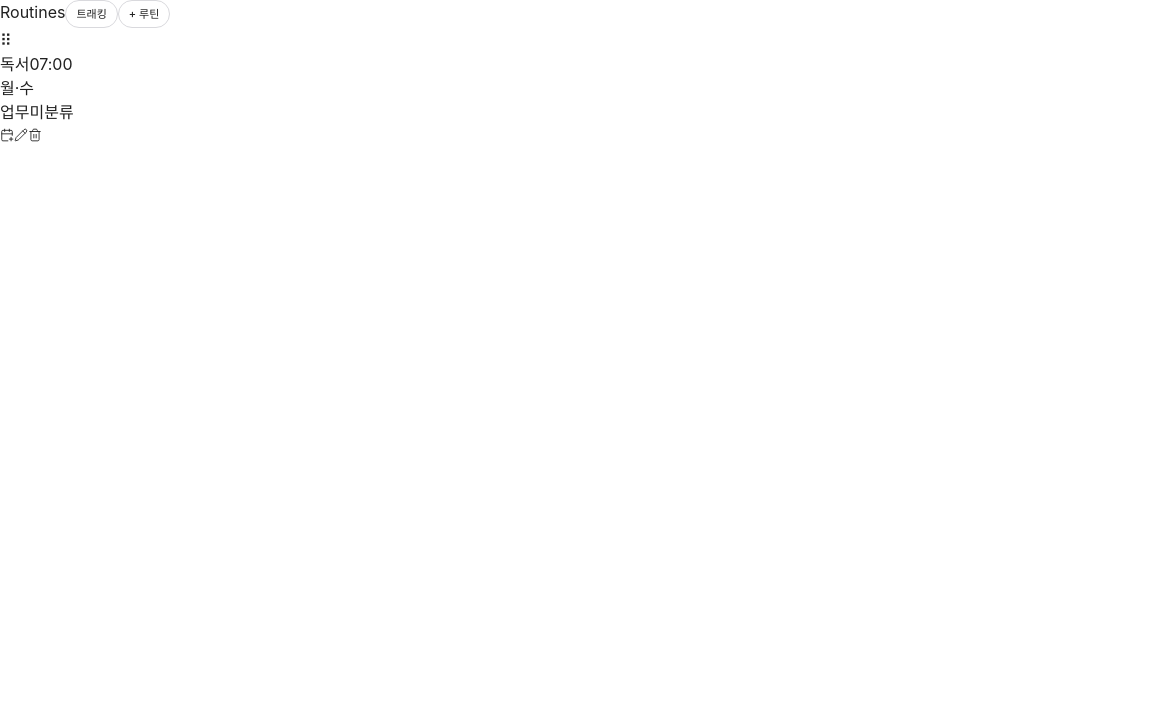
Test: RoutinesPanel behavior baseline › edit populates non-trivial fields (time + weekly weekdays)
Click the button named "루틴 수정" at (21, 135), box [14,128,28,142]
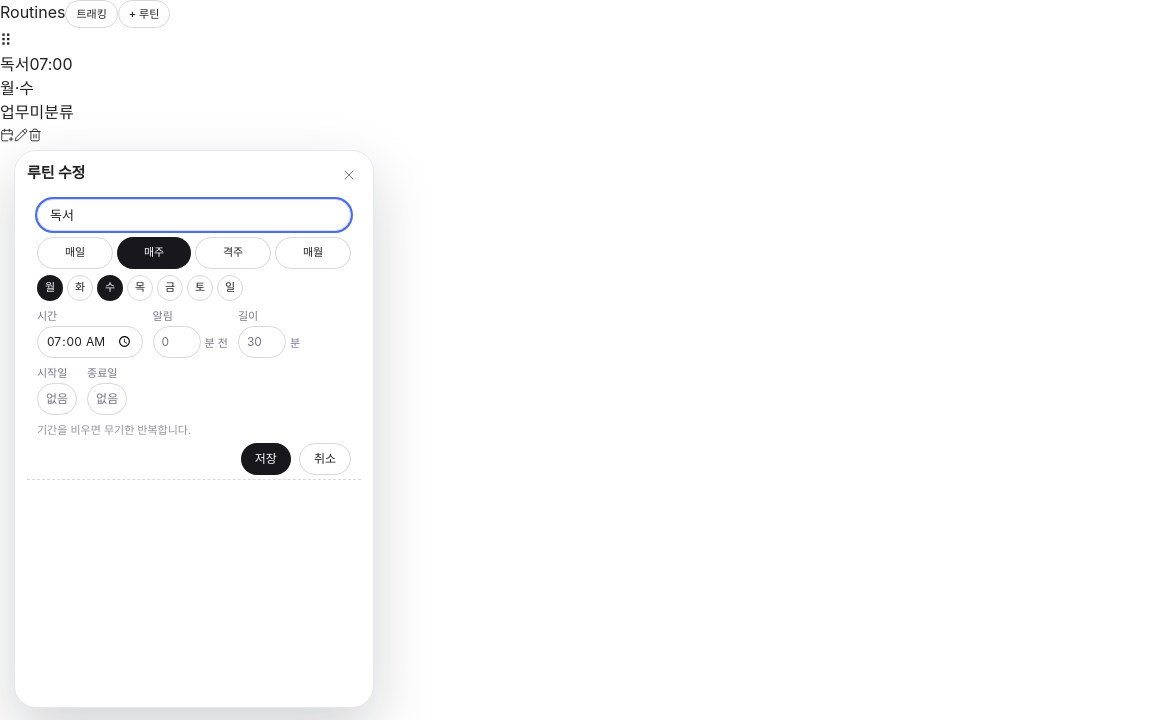
Check: the field holds "독서", box [37,199,351,231]
Check: the time field labelled "시간" holds "07:00", box [37,326,143,358]
